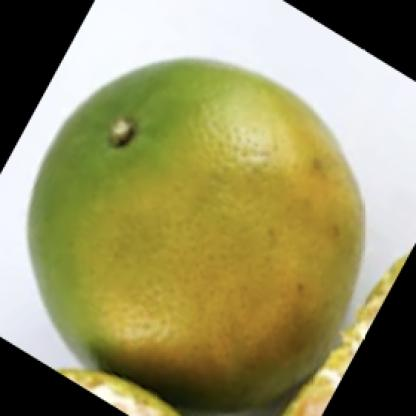fresh: (32, 59, 368, 403)
